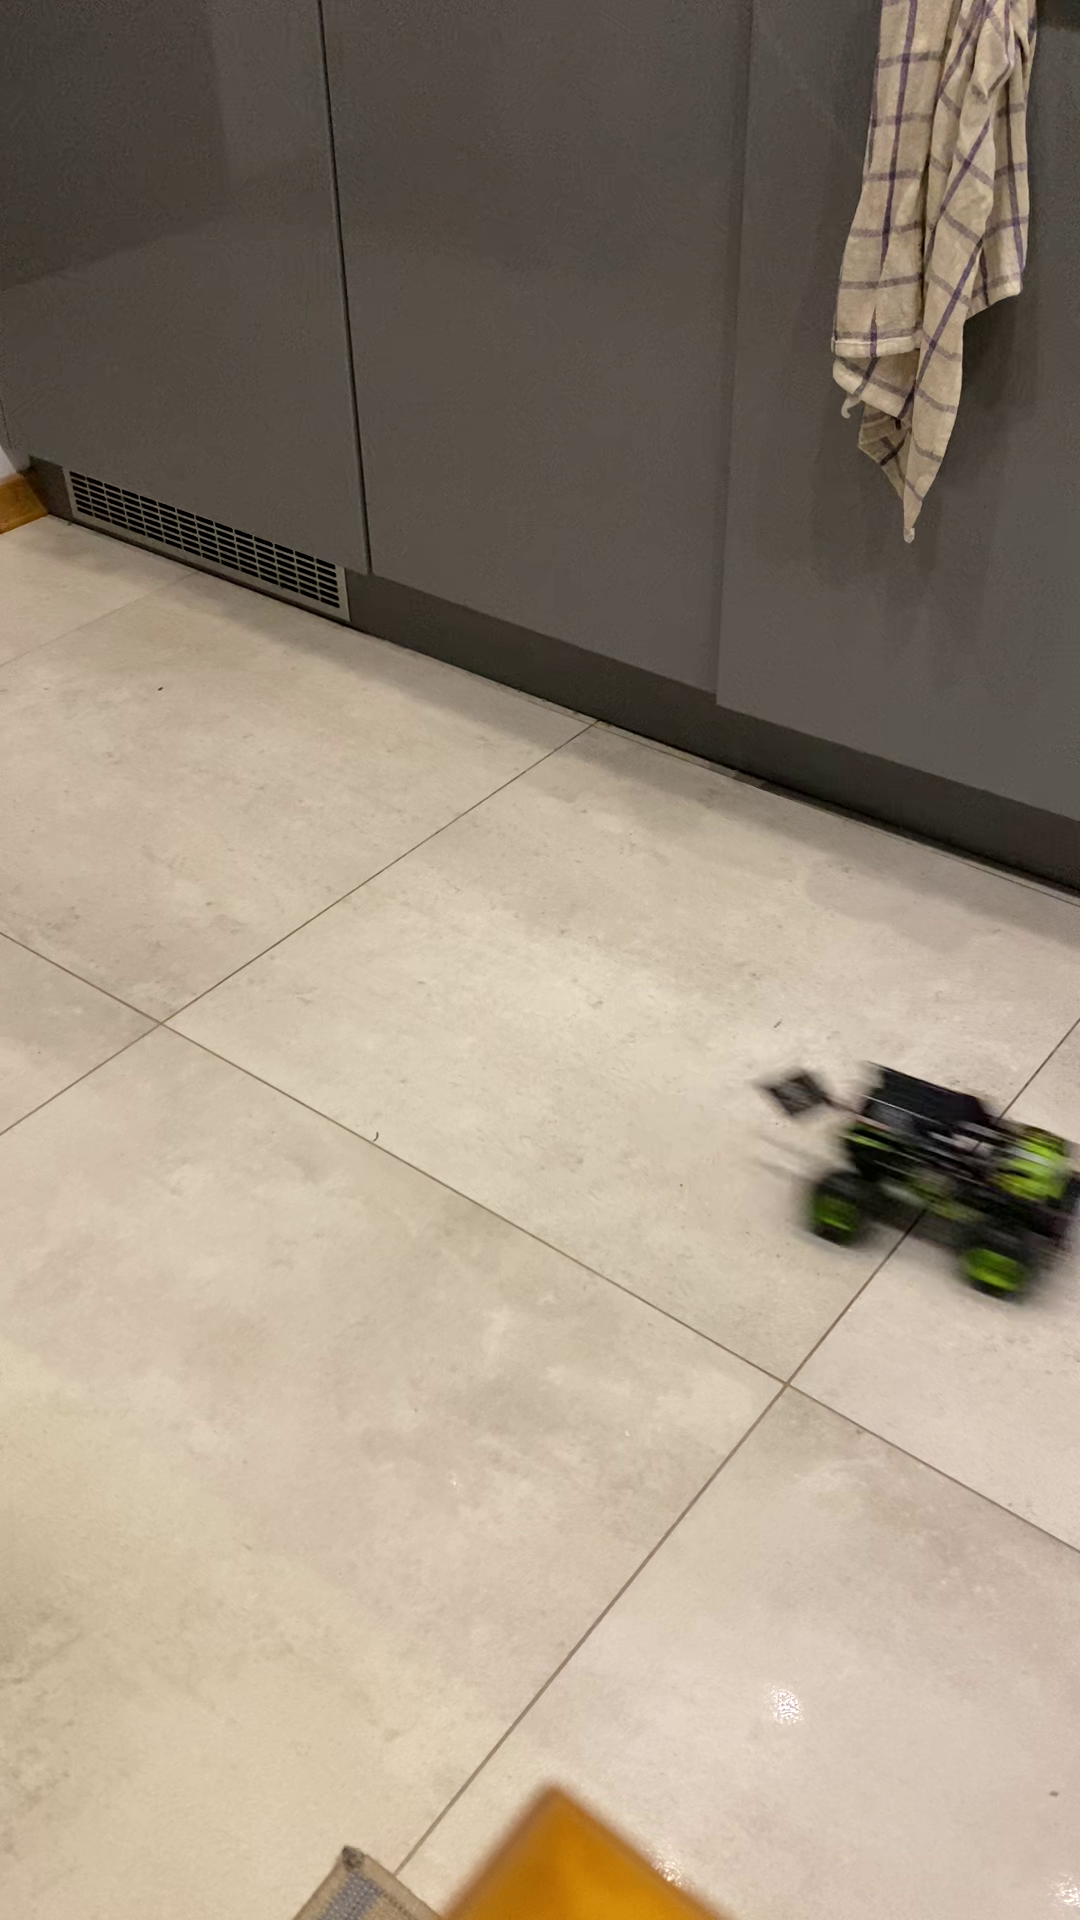car: (802, 1065, 1076, 1303)
